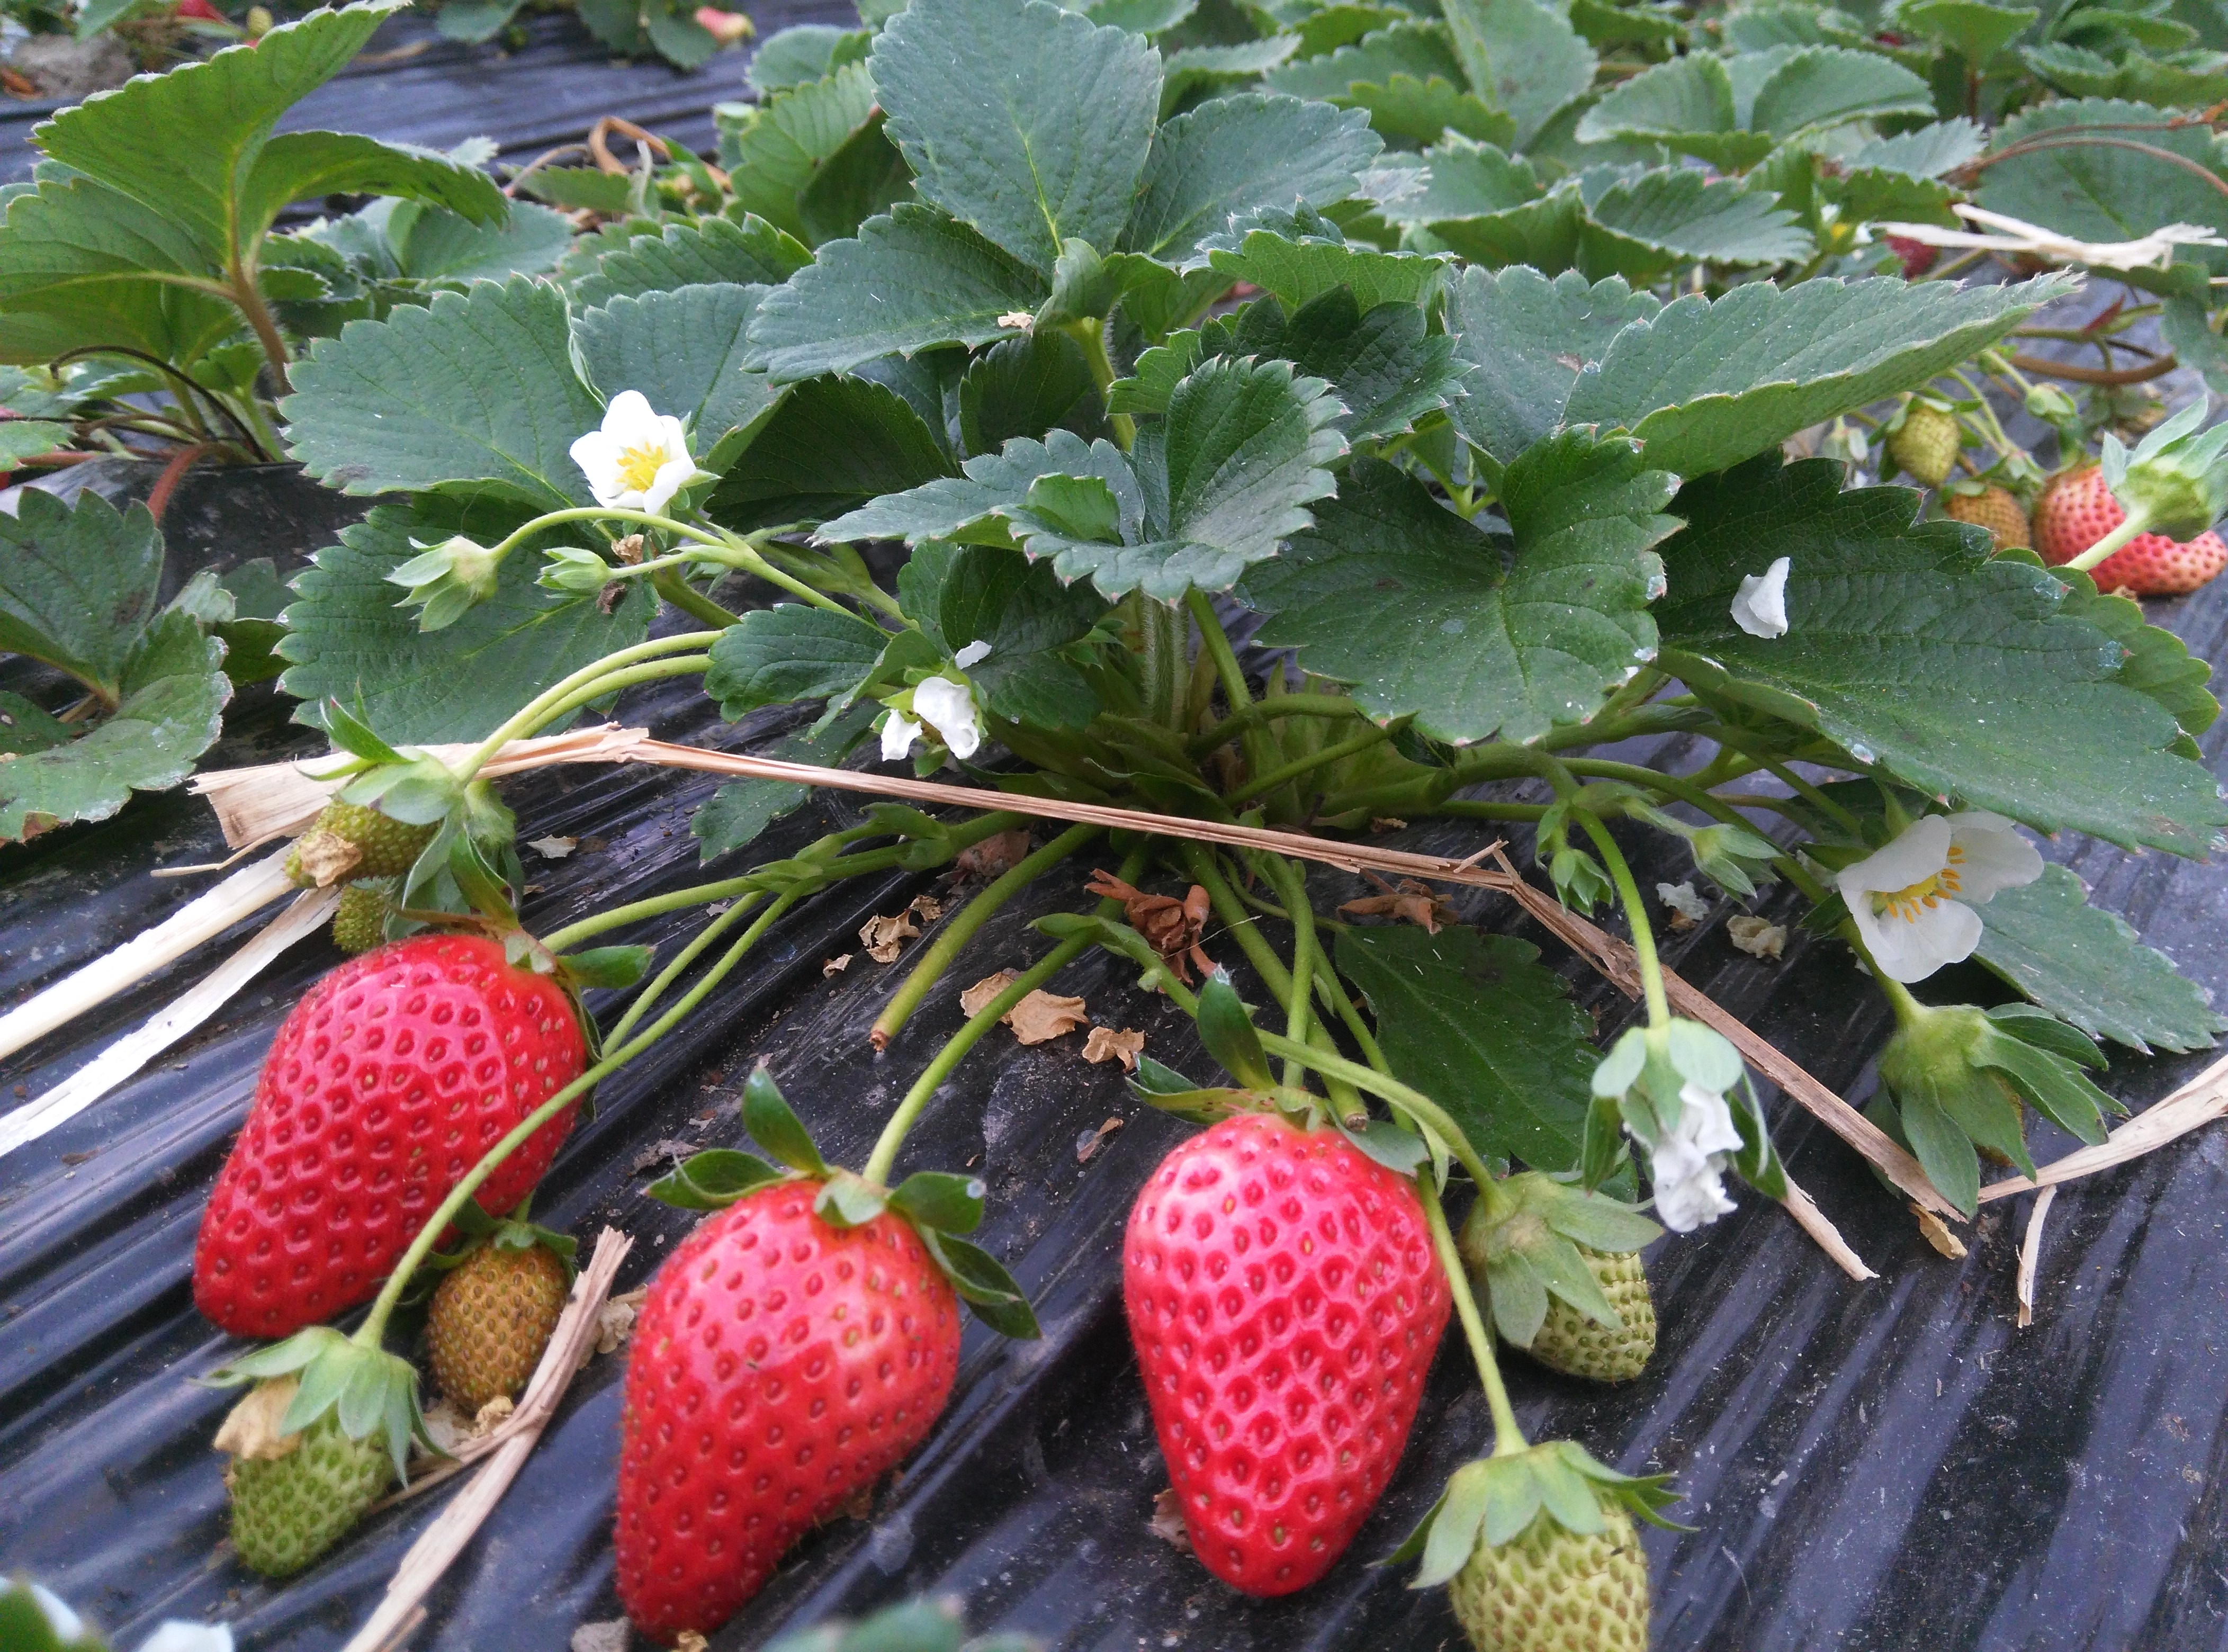StrawberryCone: (604, 1124, 986, 1609), (1111, 1098, 1463, 1595), (174, 930, 602, 1329)
StrawberryIrremovable: (193, 1360, 418, 1586), (1477, 1170, 1694, 1390), (1435, 1456, 1694, 1605), (429, 1244, 560, 1411), (2034, 453, 2169, 602), (318, 760, 458, 901), (1867, 378, 1980, 489), (1935, 477, 2046, 583)
StrawberryRemovable: (168, 925, 604, 1333), (614, 1130, 977, 1607), (1117, 1104, 1459, 1591)
